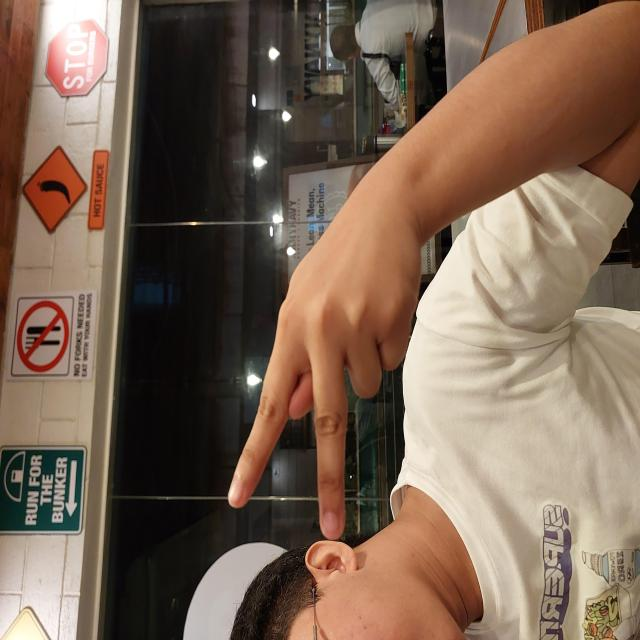K: (97, 227, 446, 422)
